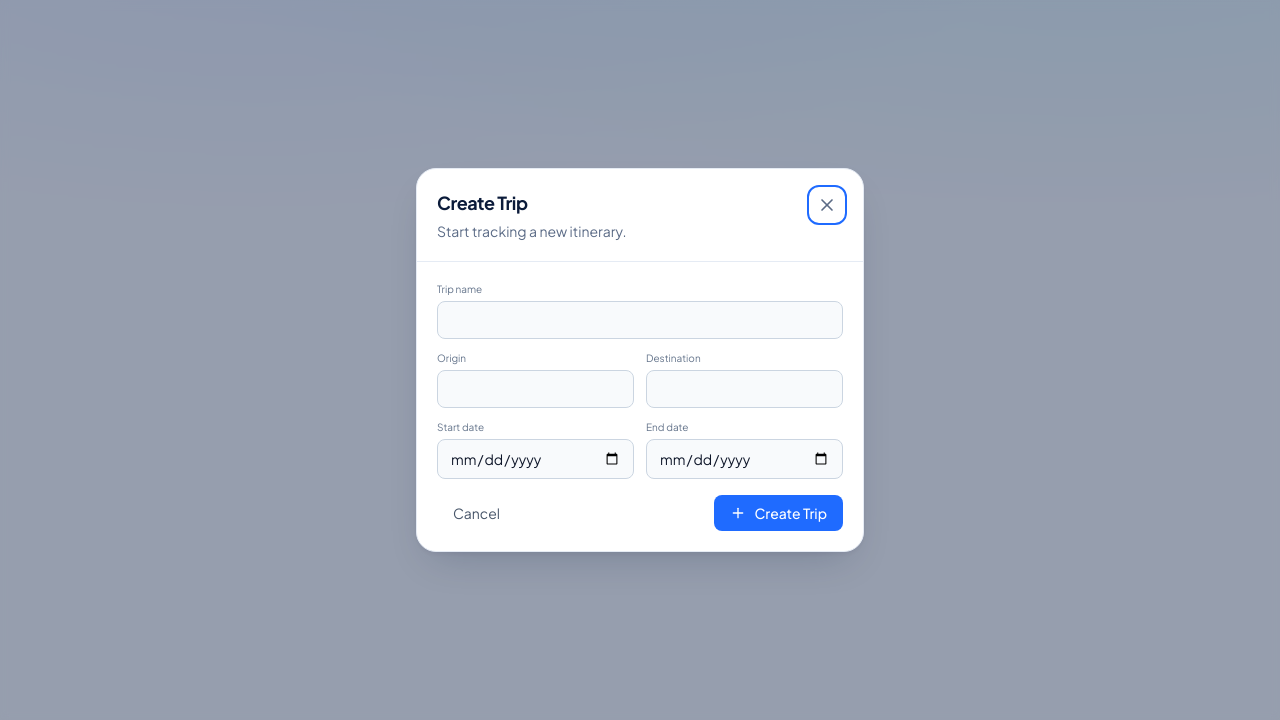
Test case: CreateTripModal › shows an honest, actionable error when creation fails, and re-enables the form
Type "Kyoto Weekend" into the field labelled "Trip name".
click(640, 320); type("Kyoto Weekend")  # box [437,301,843,339]
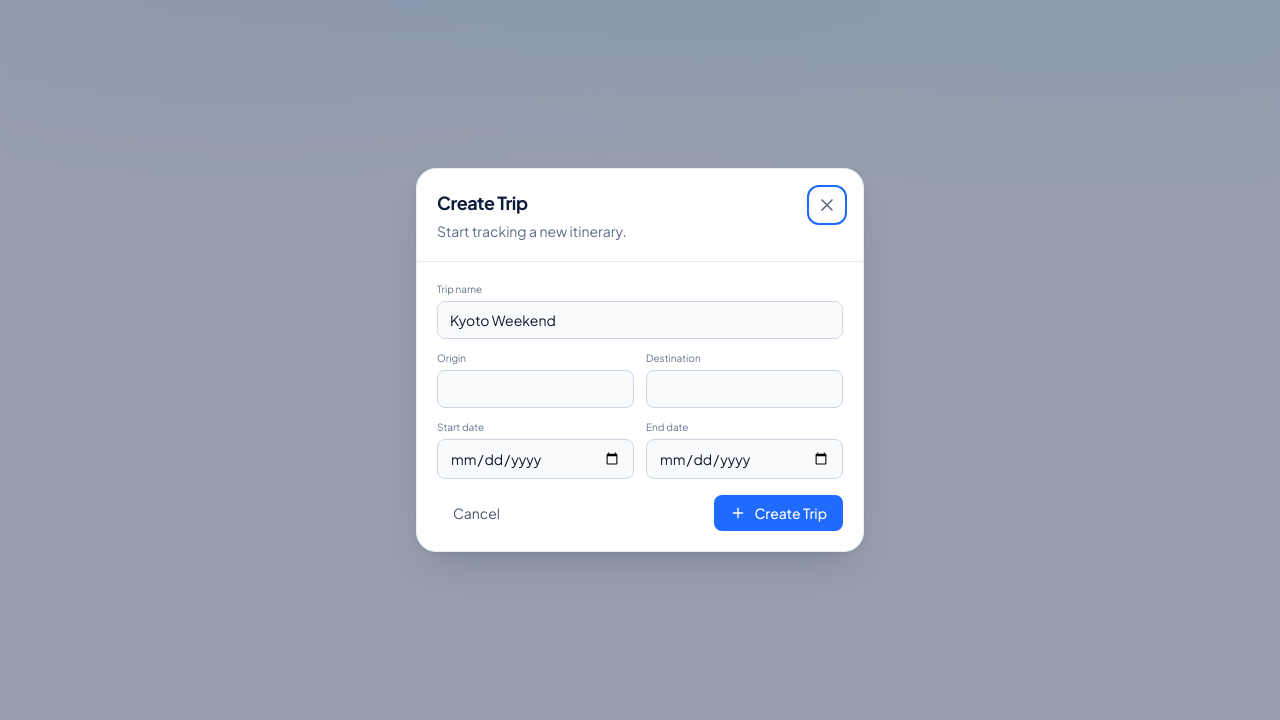
Type "Tokyo" into the field labelled "Origin".
click(536, 389); type("Tokyo")  # box [437,370,634,408]
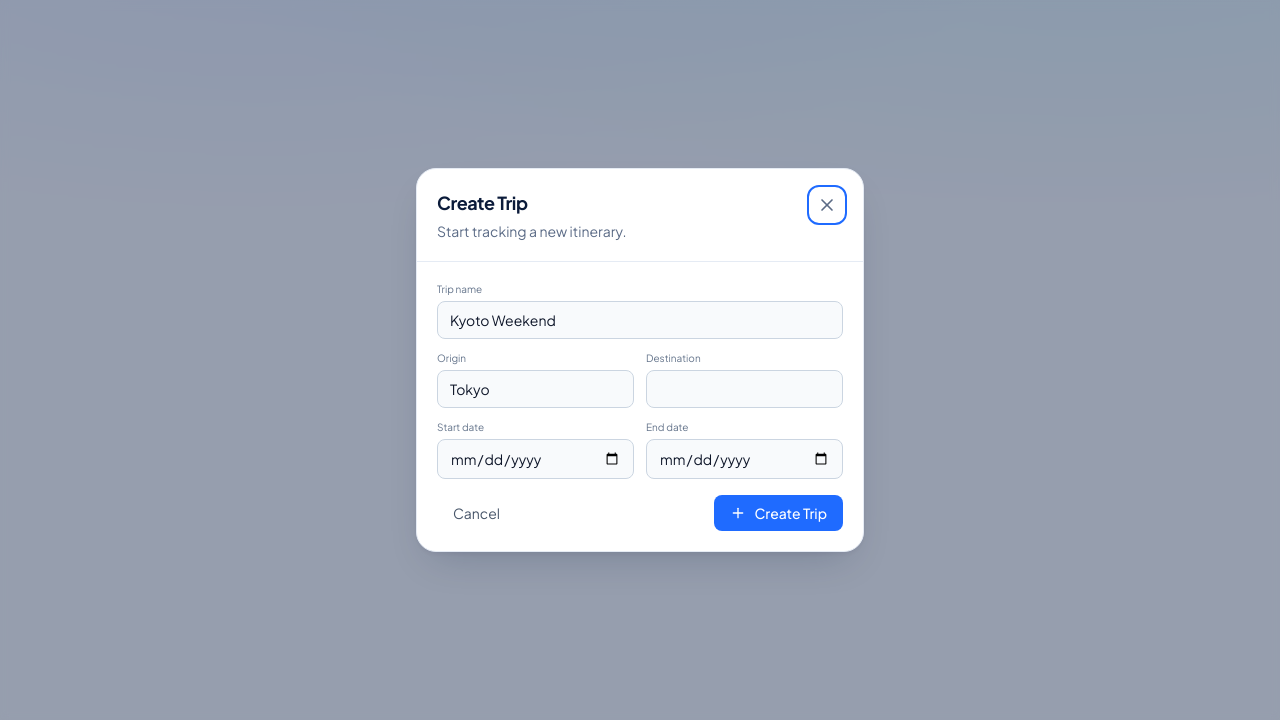
Type "Kyoto" into the field labelled "Destination".
click(744, 389); type("Kyoto")  # box [646,370,843,408]
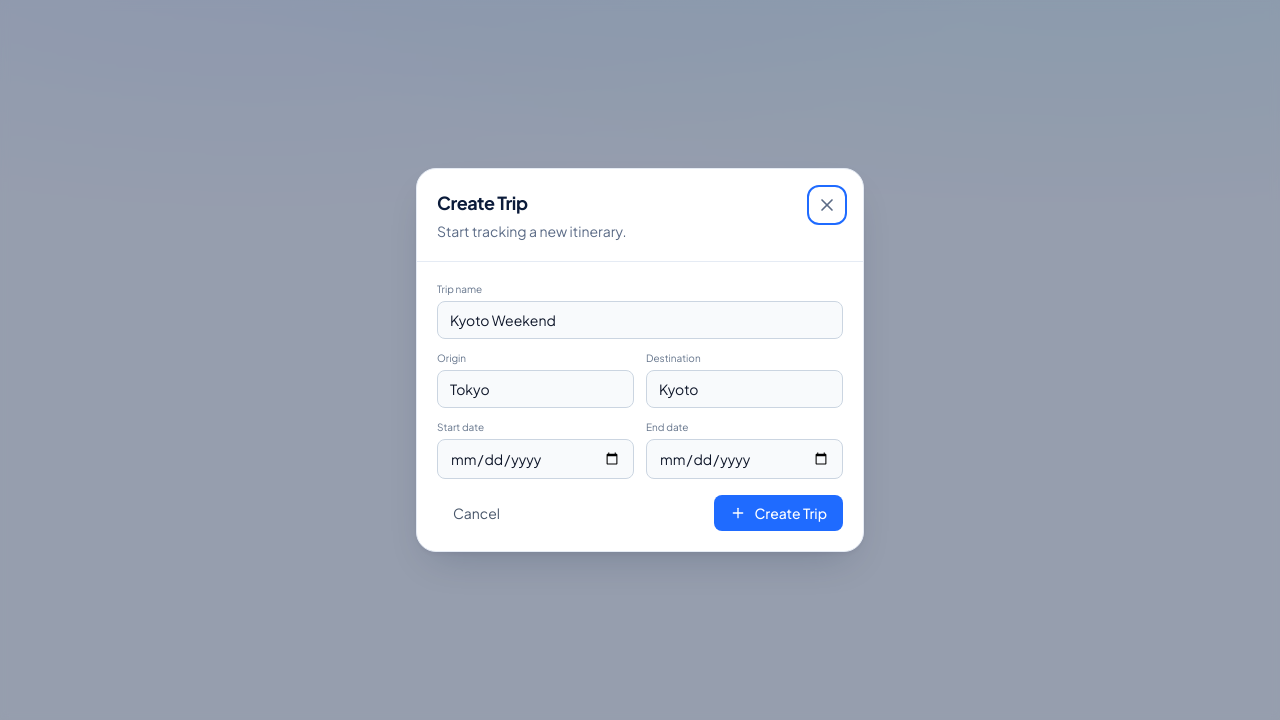
Type "2026-04-10" into the date field labelled "Start date".
click(536, 459); type("2026-04-10")  # box [437,439,634,479]
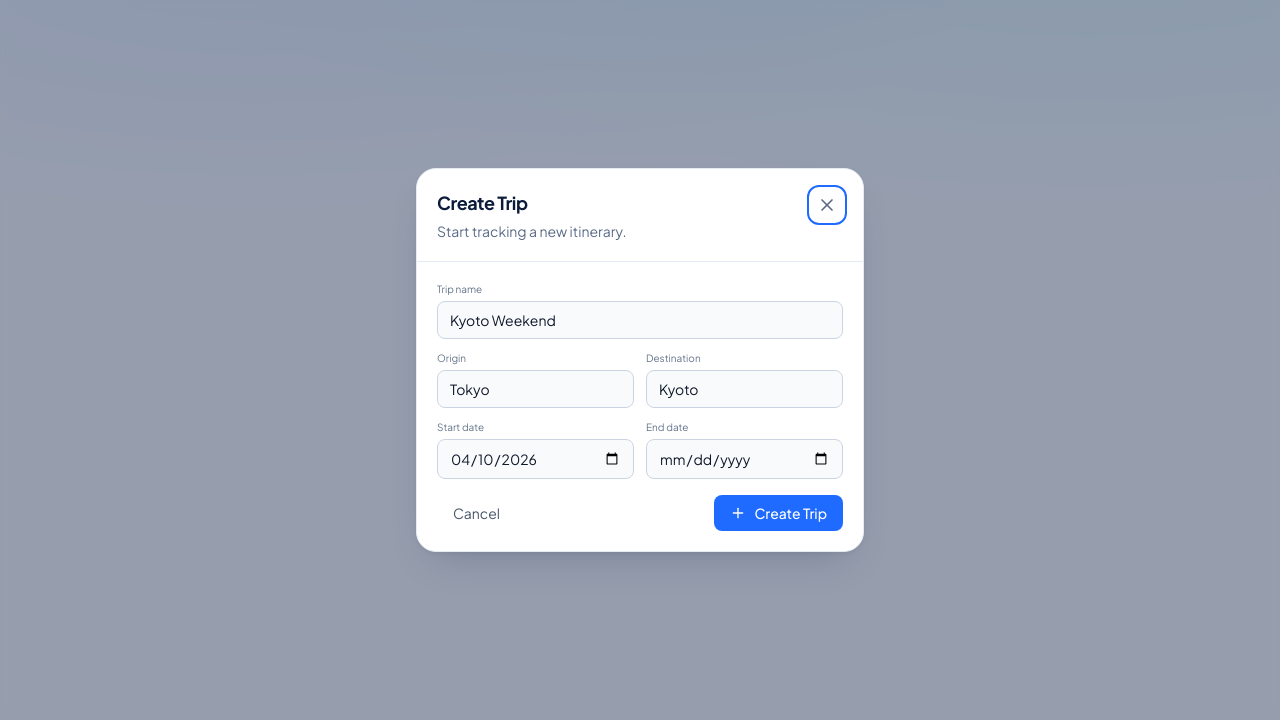
Type "2026-04-13" into the date field labelled "End date".
click(744, 459); type("2026-04-13")  # box [646,439,843,479]
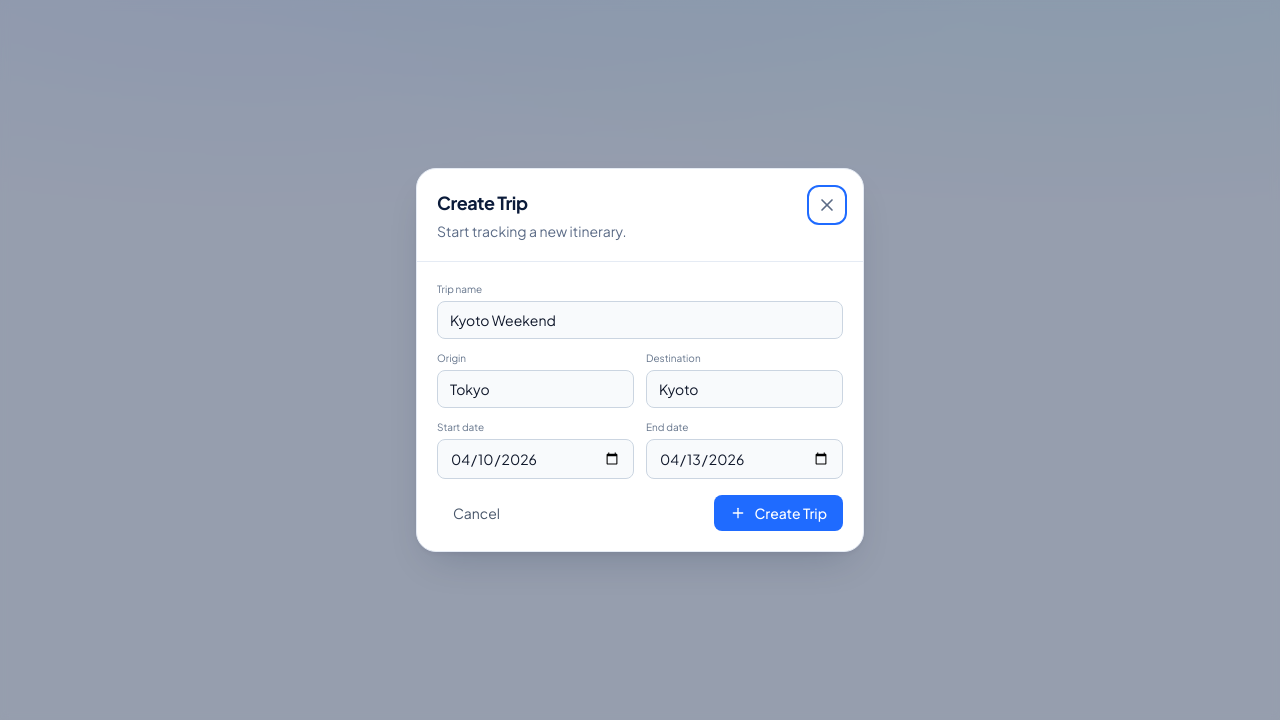
Click the button "Create Trip".
click(779, 513)  # box [714,495,843,531]
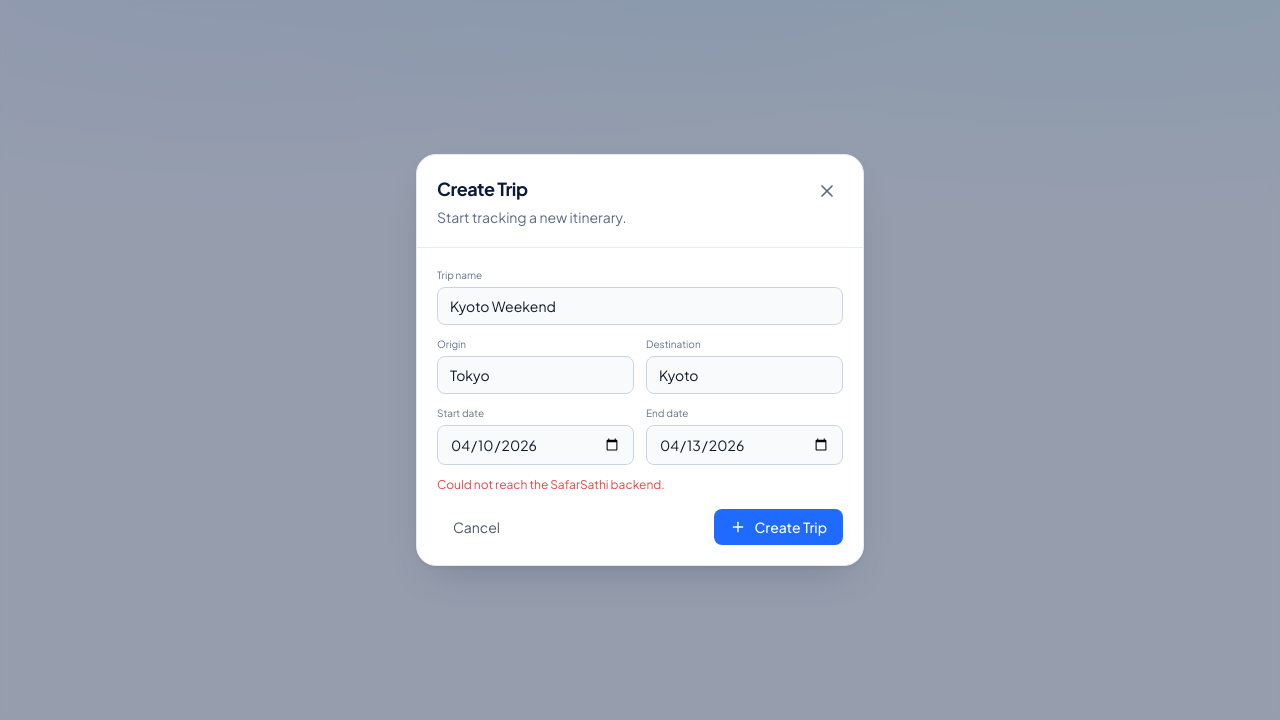
Expected: the button "Create Trip" is enabled, [714,509,843,545]
Now the message reads "Could not reach the SafarSathi backend.", box [437,477,665,492]
